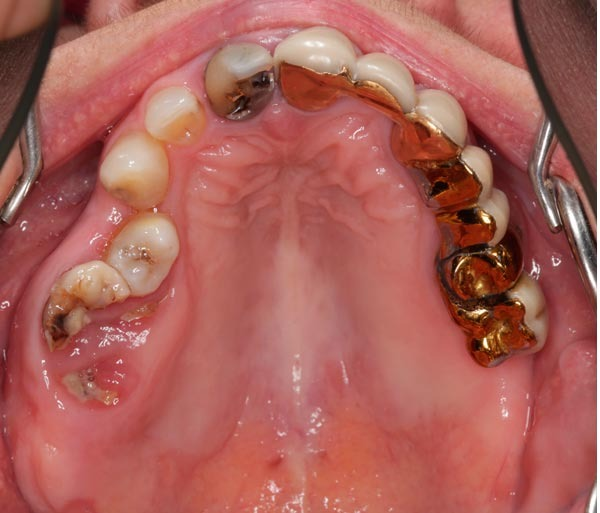UL1BC_decay: (431, 146, 493, 204)
UL1M_decay: (445, 241, 523, 296)
UL2BC_decay: (445, 196, 508, 248)
UL2M_decay: (460, 284, 550, 361)
ULCI_decay: (277, 33, 356, 112)
ULC_decay: (403, 97, 466, 165)
ULLI_decay: (352, 54, 415, 121)
UR1BC_decay: (108, 217, 182, 286)
UR1M_decay: (55, 359, 143, 421)
UR2BC_decay: (48, 271, 148, 348)
URCI_decay: (206, 44, 276, 115)
URC_healthy: (98, 136, 173, 209)
URLI_healthy: (140, 90, 203, 140)
